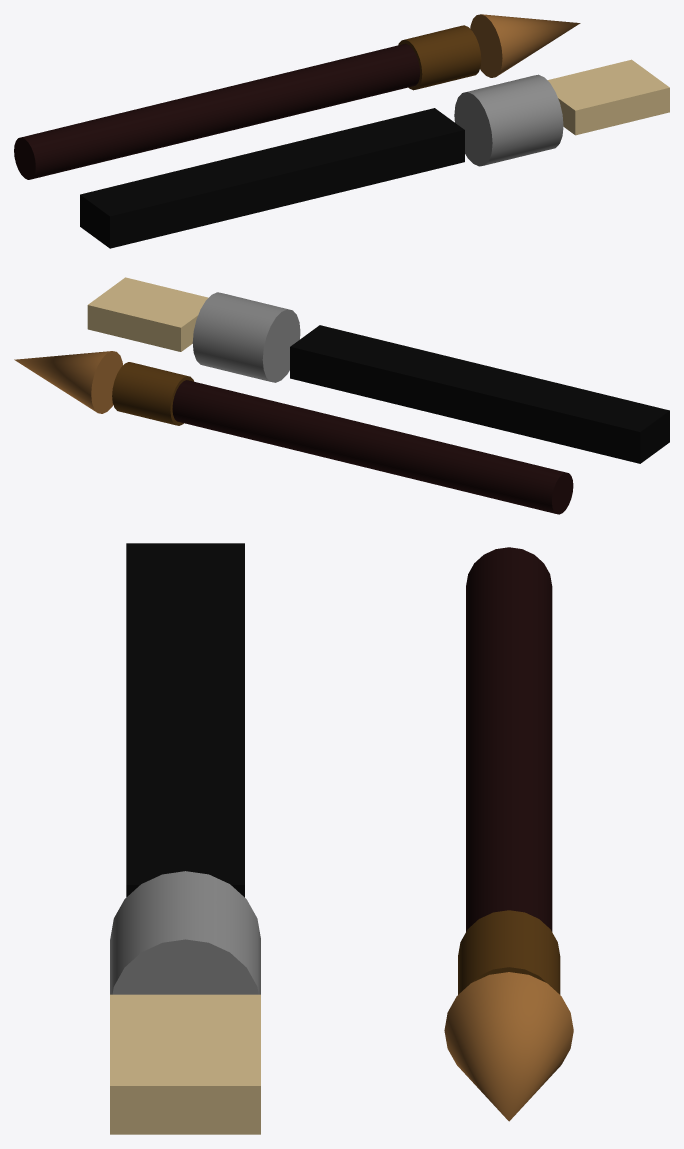
Rendered from 16_brushes.fbx.
3 views of the same model, one above another, from view 1: azimuth 30°, elevation 25°; view 2: azimuth 150°, elevation 25°; view 3: azimuth 270°, elevation 25° (orthographic). The views are drawn at different scales.
Parts seen in each view (by area): view 1: Flat_Handle, Round_Handle, Flat_Ferrule, Flat_Bristle, Round_Bristle, Round_Ferrule; view 2: Flat_Handle, Round_Handle, Flat_Ferrule, Flat_Bristle, Round_Bristle, Round_Ferrule; view 3: Flat_Handle, Round_Handle, Flat_Bristle, Flat_Ferrule, Round_Bristle, Round_Ferrule.
Boxes of the visible parts, x1,y1,x2,y2 form: Flat_Handle: [80, 108, 464, 248]; Round_Handle: [14, 43, 420, 179]; Flat_Ferrule: [454, 74, 563, 166]; Flat_Bristle: [547, 59, 669, 135]; Round_Bristle: [470, 14, 580, 77]; Round_Ferrule: [398, 25, 481, 90]; Flat_Handle: [290, 325, 669, 463]; Round_Handle: [172, 380, 573, 514]; Flat_Ferrule: [192, 292, 300, 382]; Flat_Bristle: [87, 277, 208, 351]; Round_Bristle: [14, 351, 122, 413]; Round_Ferrule: [112, 362, 193, 425]; Flat_Handle: [126, 543, 244, 897]; Round_Handle: [466, 547, 552, 931]; Flat_Bristle: [110, 994, 260, 1134]; Flat_Ferrule: [110, 871, 260, 994]; Round_Bristle: [444, 972, 573, 1121]; Round_Ferrule: [458, 910, 560, 994].
Bounding box in the file's own units: 0.24 × 0.028 × 0.086.
6 materials, 6 textured.
